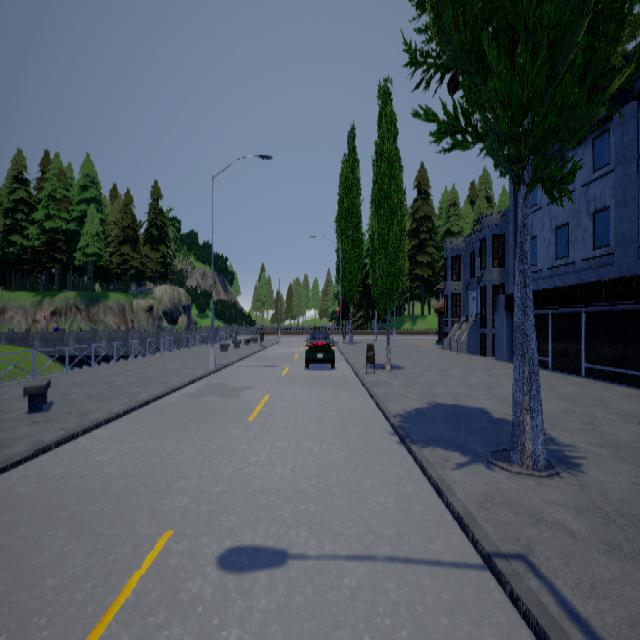vehicle: (304, 325, 334, 367)
